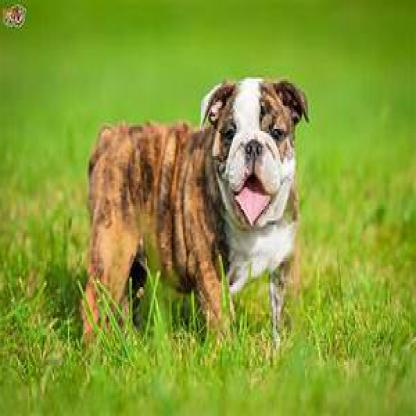dog: (80, 79, 315, 345)
